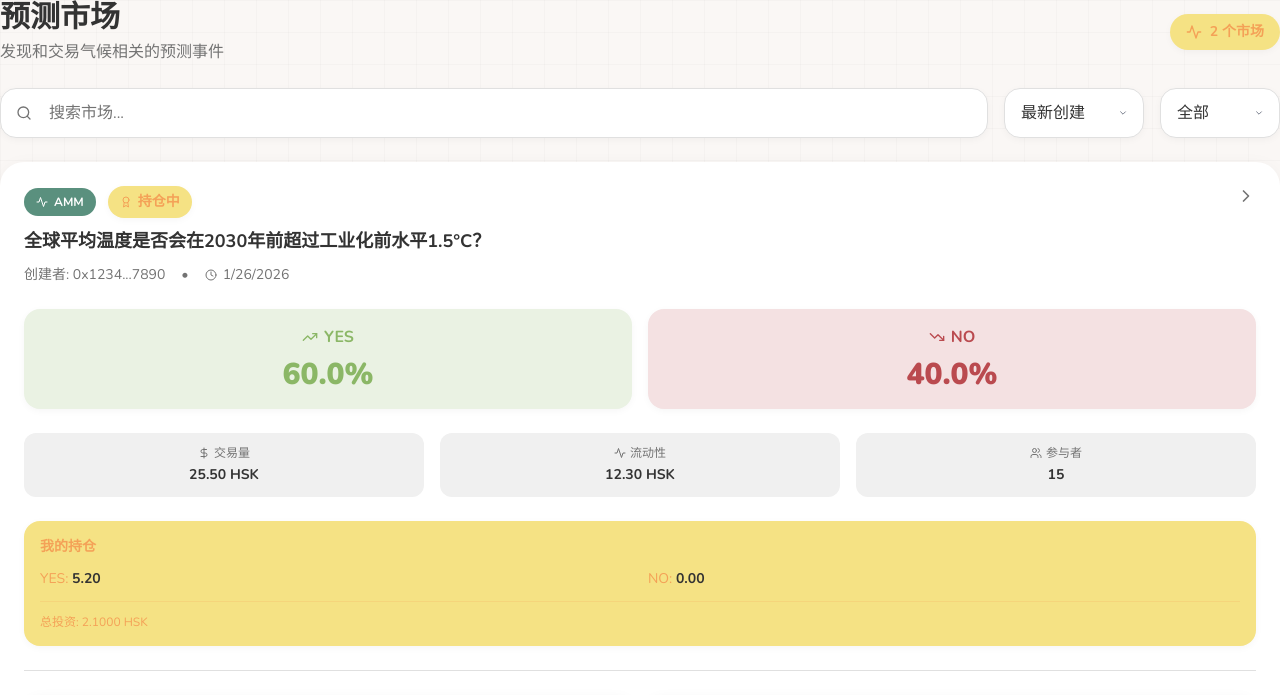
Scenario: MarketList › shows empty state when search returns no results
Type "不存在的市场" into the field with placeholder "搜索市场..." at (494, 113), box [0, 88, 988, 138]
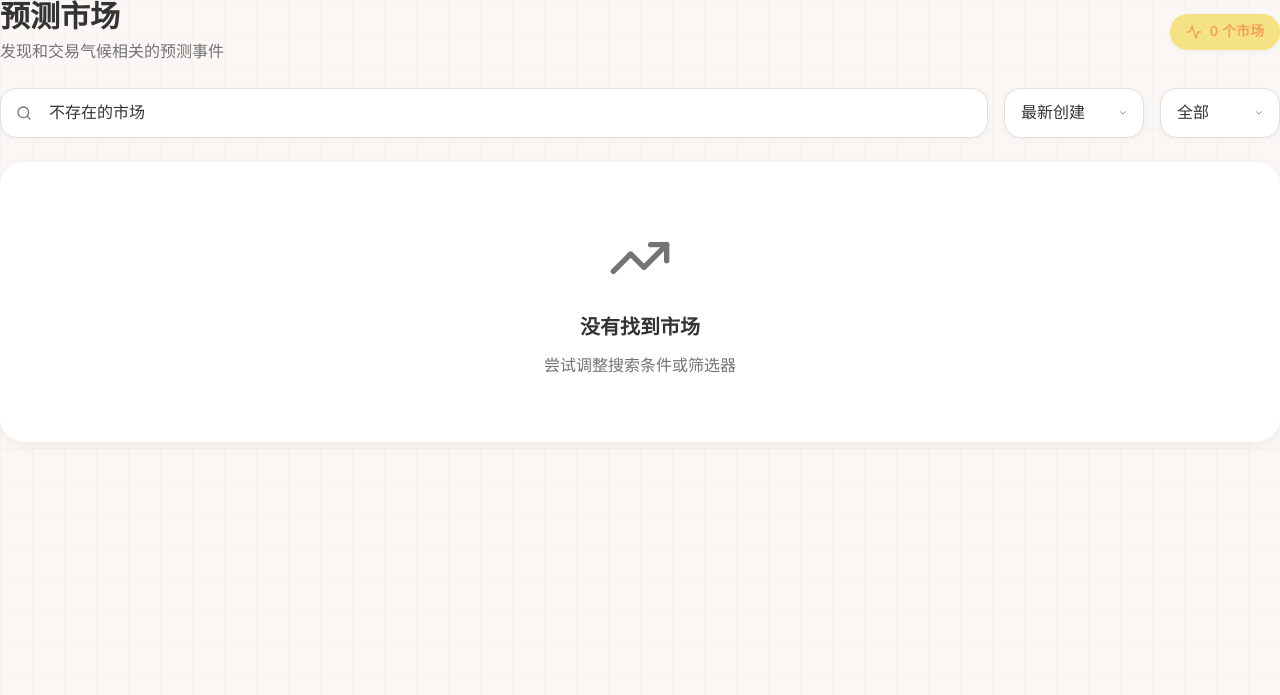
Now the heading "没有找到市场" is shown, box [580, 314, 700, 341]
Now the text "尝试调整搜索条件或筛选器" is shown, box [544, 355, 736, 377]
